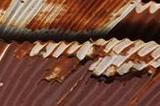rust: (3, 44, 160, 103), (30, 1, 125, 34)
